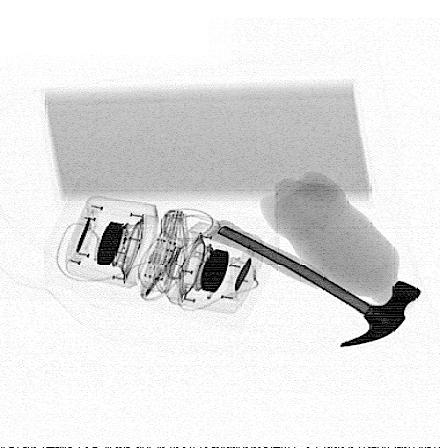Hammer: (206, 219, 421, 348)
